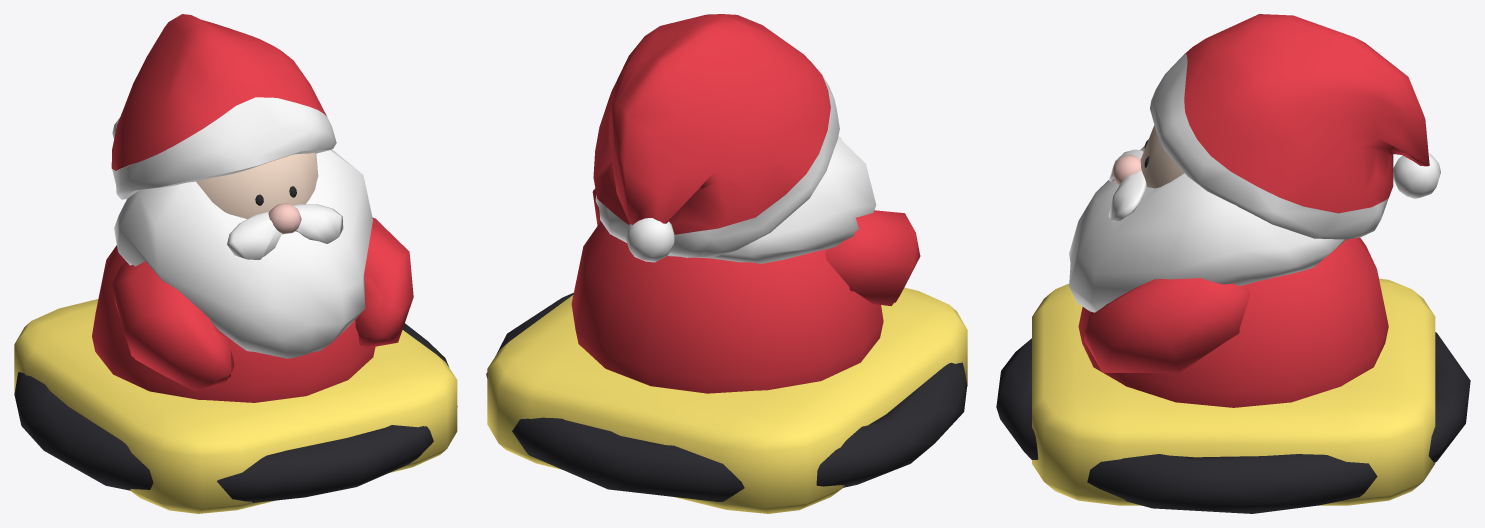
Rendered from bumper.glb.
3 views of the same model, side by side, from view 1: azimuth 30°, elevation 25°; view 2: azimuth 150°, elevation 25°; view 3: azimuth 270°, elevation 25° (orthographic). The views are drawn at different scales.
Visible parts, largest first — view 1: bumper_white, bumper_red, bumper_yellow, bumper_black, bumper_skin, bumper_nose; view 2: bumper_red, bumper_yellow, bumper_black, bumper_white; view 3: bumper_red, bumper_yellow, bumper_white, bumper_black, bumper_skin, bumper_nose.
Part boxes in pixels (<box>): bumper_white: <box>112,97,372,358</box>; bumper_red: <box>92,14,413,402</box>; bumper_yellow: <box>14,299,457,513</box>; bumper_black: <box>14,186,457,502</box>; bumper_skin: <box>196,153,318,218</box>; bumper_nose: <box>268,203,301,234</box>; bumper_red: <box>571,14,920,393</box>; bumper_yellow: <box>487,287,967,513</box>; bumper_black: <box>486,292,967,501</box>; bumper_white: <box>595,61,876,263</box>; bumper_red: <box>1078,14,1429,407</box>; bumper_yellow: <box>1032,278,1435,505</box>; bumper_white: <box>1069,53,1440,312</box>; bumper_black: <box>996,139,1470,513</box>; bumper_skin: <box>1140,87,1239,188</box>; bumper_nose: <box>1112,154,1141,184</box>.
Size of the model in its own units: 3.06 by 2.98 by 3.06.
